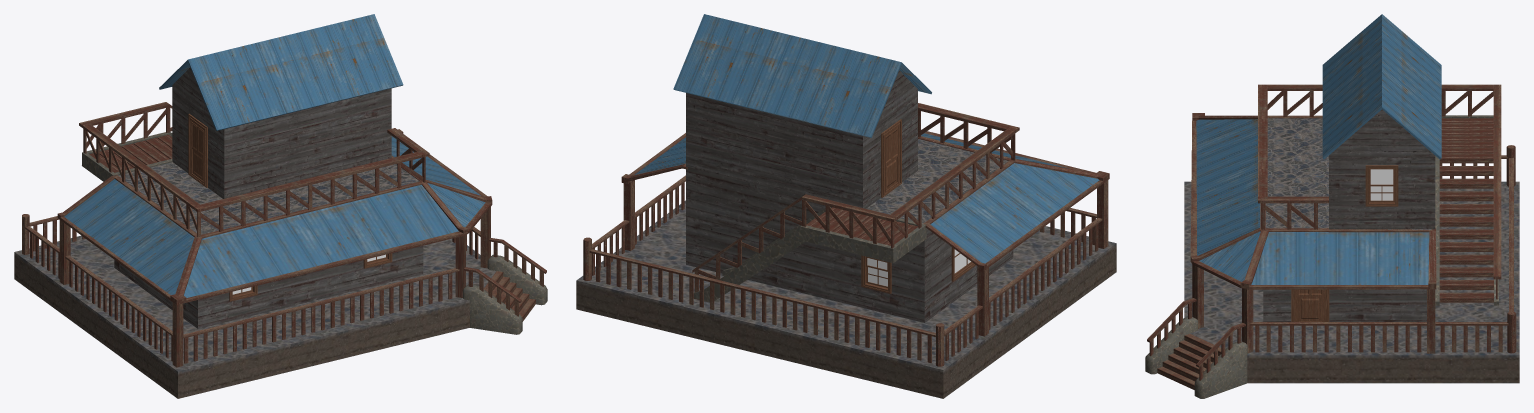
The model's file is cabin2.fbx.
The picture shows the model from 3 angles, left to right: view 1: azimuth 30°, elevation 25°; view 2: azimuth 150°, elevation 25°; view 3: azimuth 270°, elevation 25°; orthographic projection. The views are drawn at different scales.
Parts seen in each view (by area): view 1: windows1; view 2: windows1; view 3: windows1.
Part boxes in pixels (x1=…): windows1: x1=14, y1=14, x2=547, y2=398; windows1: x1=576, y1=14, x2=1116, y2=398; windows1: x1=1145, y1=14, x2=1519, y2=398.
Bounding box in the file's own units: 1026 × 631 × 859.
1 material, 1 textured.
